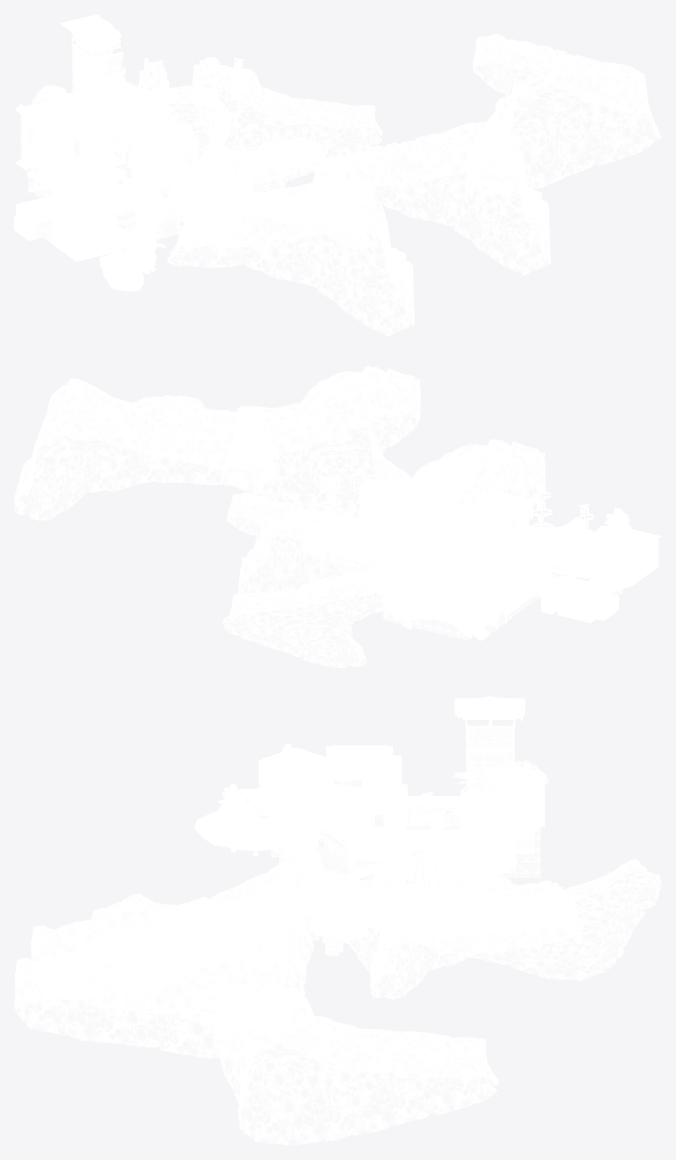
File: map_site.glb
3 views of the same model, one above another, from view 1: azimuth 30°, elevation 25°; view 2: azimuth 150°, elevation 25°; view 3: azimuth 270°, elevation 25° (orthographic). The views are drawn at different scales.
Visible parts, largest first — view 1: StaticMeshActor_493aafb0, StaticMeshActor_077173ab, StaticMeshActor_266cecf6, StaticMeshActor_311833ee, StaticMeshActor_1509beb3, StaticMeshActor_36434b0f, StaticMeshActor_50faa2dc, StaticMeshActor_3945f0b1, StaticMeshActor_b9fc5ccd, StaticMeshActor_1ecae885, StaticMeshActor_df8ea700, StaticMeshActor_0d07fd8c (+30 smaller); view 2: StaticMeshActor_077173ab, StaticMeshActor_493aafb0, StaticMeshActor_311833ee, StaticMeshActor_b9fc5ccd, StaticMeshActor_266cecf6, StaticMeshActor_a958ad83, StaticMeshActor_50faa2dc, StaticMeshActor_3945f0b1, StaticMeshActor_36434b0f, StaticMeshActor_2c986ac0, StaticMeshActor_2db6b789, StaticMeshActor_39ff9cb1 (+22 smaller); view 3: StaticMeshActor_077173ab, StaticMeshActor_493aafb0, StaticMeshActor_311833ee, StaticMeshActor_266cecf6, StaticMeshActor_b9fc5ccd, StaticMeshActor_36434b0f, StaticMeshActor_1509beb3, StaticMeshActor_3945f0b1, StaticMeshActor_c45d7bda, StaticMeshActor_50faa2dc, StaticMeshActor_0d07fd8c, StaticMeshActor_a958ad83 (+25 smaller).
Boxes of the visible parts, x1,y1,x2,y2 form: StaticMeshActor_493aafb0: (307,119,550,275); StaticMeshActor_077173ab: (466,33,661,196); StaticMeshActor_266cecf6: (167,180,414,336); StaticMeshActor_311833ee: (190,56,382,183); StaticMeshActor_1509beb3: (244,178,367,250); StaticMeshActor_36434b0f: (220,137,324,209); StaticMeshActor_50faa2dc: (72,44,128,122); StaticMeshActor_3945f0b1: (26,151,114,194); StaticMeshActor_b9fc5ccd: (58,85,230,173); StaticMeshActor_1ecae885: (71,114,135,162); StaticMeshActor_df8ea700: (51,214,116,261); StaticMeshActor_0d07fd8c: (43,199,119,234); StaticMeshActor_077173ab: (14,378,273,520); StaticMeshActor_493aafb0: (221,366,420,519); StaticMeshActor_311833ee: (226,492,374,598); StaticMeshActor_b9fc5ccd: (222,569,386,667); StaticMeshActor_266cecf6: (358,439,545,569); StaticMeshActor_a958ad83: (383,574,485,640); StaticMeshActor_50faa2dc: (401,491,459,570); StaticMeshActor_3945f0b1: (512,525,622,560); StaticMeshActor_36434b0f: (303,507,425,569); StaticMeshActor_2c986ac0: (480,568,544,632); StaticMeshActor_2db6b789: (402,502,438,567); StaticMeshActor_39ff9cb1: (378,549,490,595); StaticMeshActor_077173ab: (213,985,499,1145); StaticMeshActor_493aafb0: (14,894,306,1058); StaticMeshActor_311833ee: (369,877,582,999); StaticMeshActor_266cecf6: (31,862,321,1023); StaticMeshActor_b9fc5ccd: (407,859,661,980); StaticMeshActor_36434b0f: (282,887,407,974); StaticMeshActor_1509beb3: (149,879,294,964); StaticMeshActor_3945f0b1: (326,745,401,789); StaticMeshActor_c45d7bda: (468,726,512,797); StaticMeshActor_50faa2dc: (466,726,514,796); StaticMeshActor_0d07fd8c: (258,747,334,784); StaticMeshActor_a958ad83: (495,826,540,877).
Bounding box in the file's own units: 182 × 58.25 × 149.
228 materials, 224 textured.
